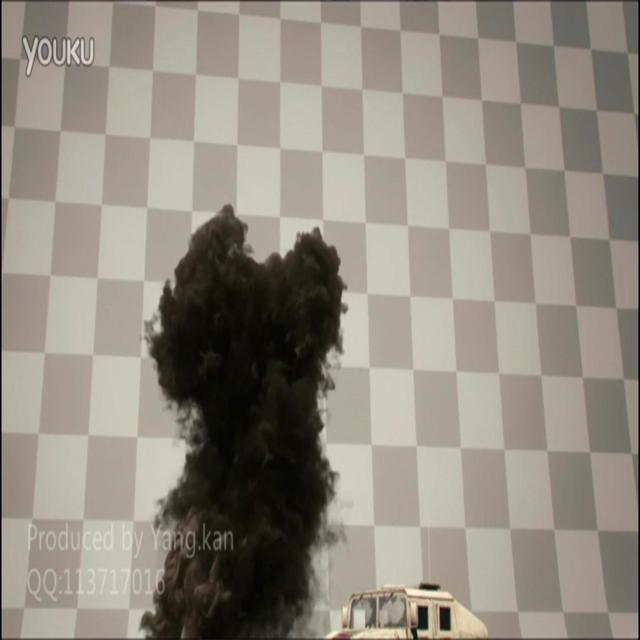Smoke: (137, 205, 350, 640)
